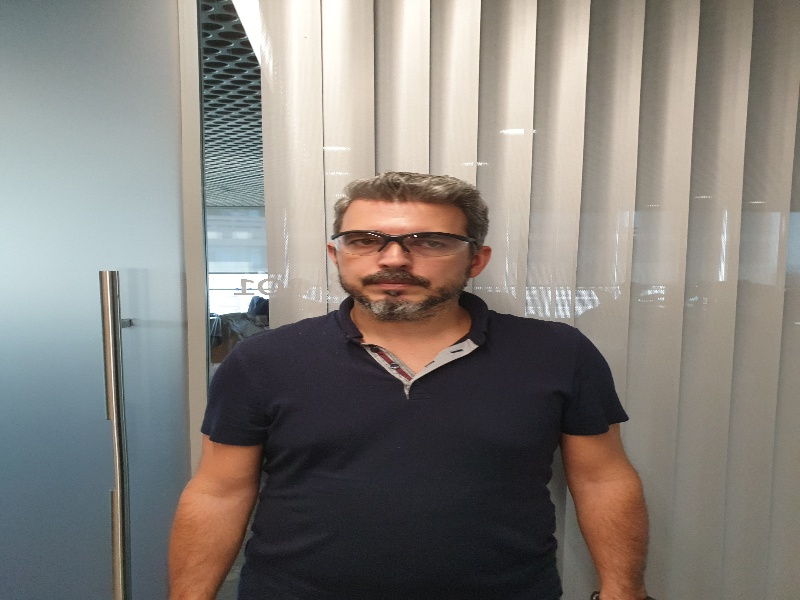Gozluk: (332, 229, 472, 255)
